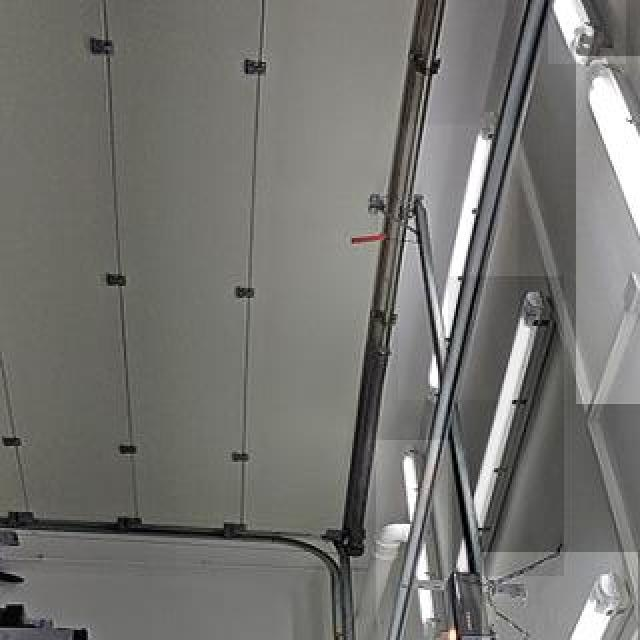fluorescent tube: (400, 104, 527, 412), (444, 291, 569, 553), (594, 58, 640, 410), (380, 442, 460, 640), (476, 548, 636, 640), (532, 2, 640, 72)
